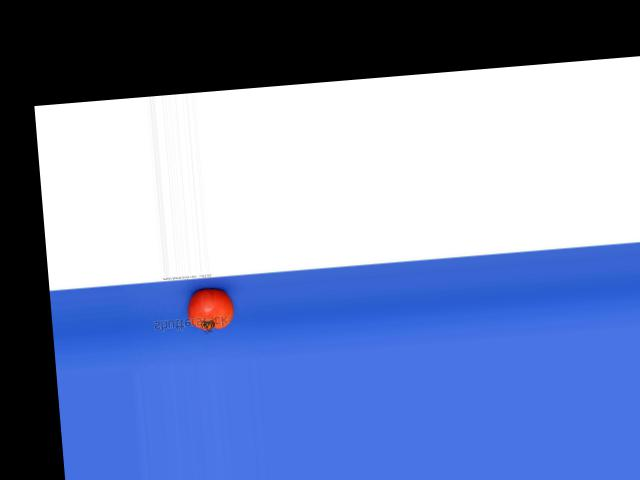tomato: (187, 286, 236, 331)
